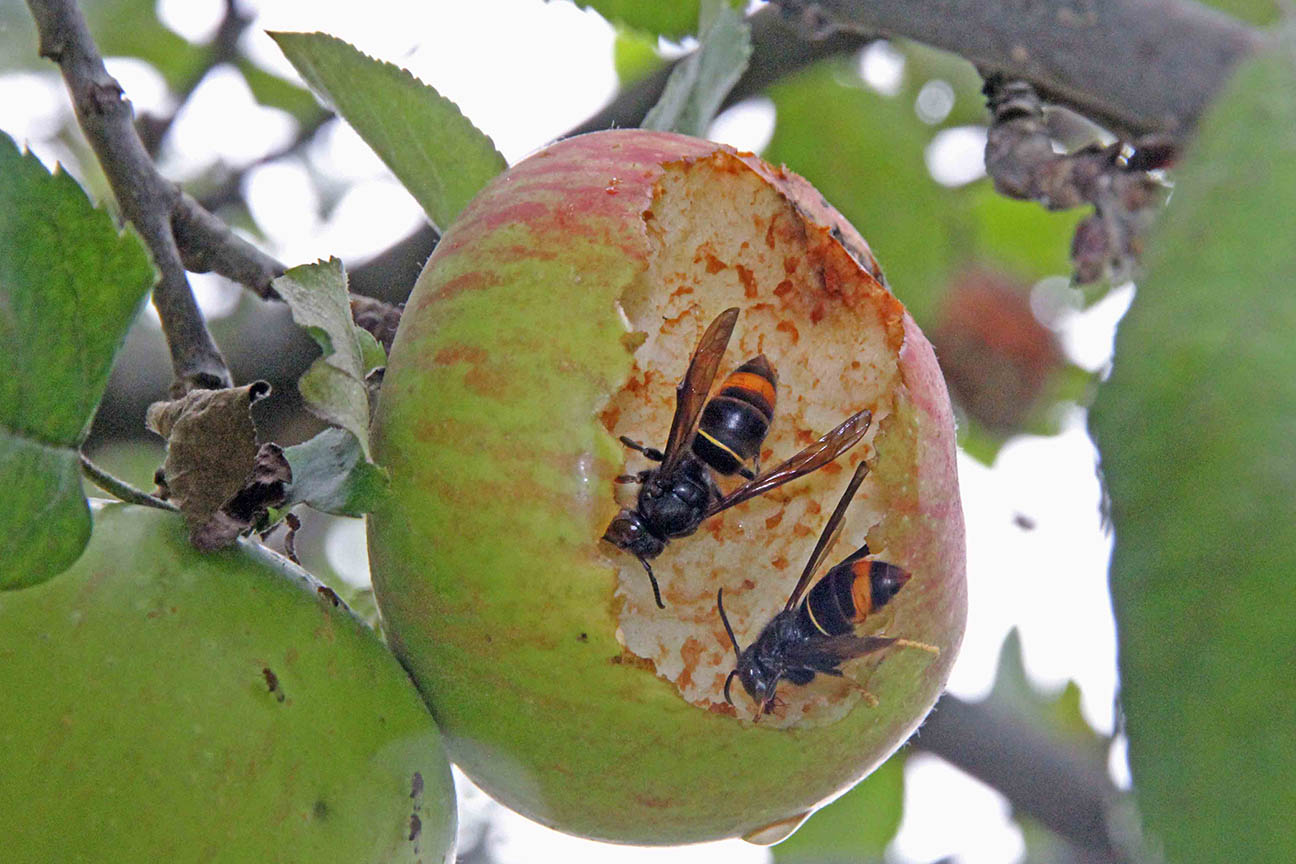hornet: (589, 328, 858, 572), (699, 545, 921, 719)
